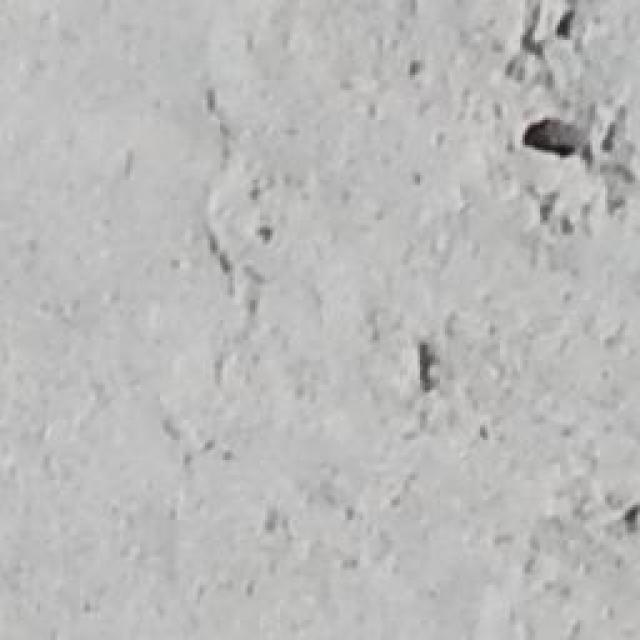concrete-crack: (188, 77, 240, 283)
